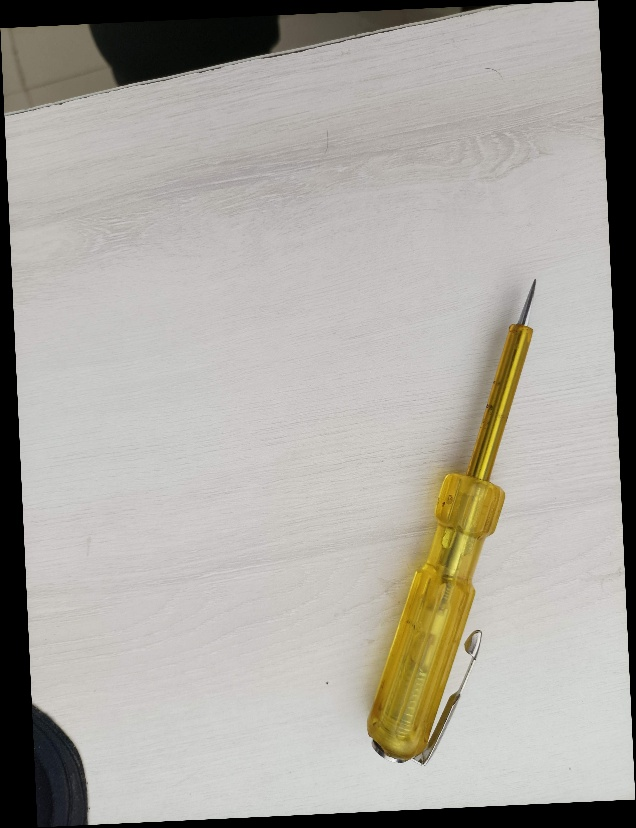screwdriver: (362, 267, 542, 770)
